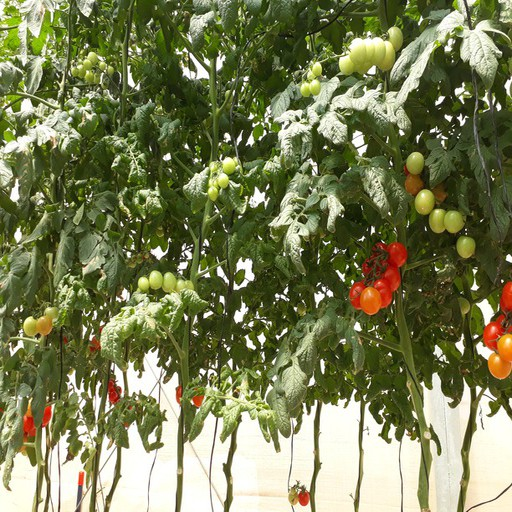green tomato bunch: (405, 152, 474, 258), (339, 28, 406, 74), (71, 50, 118, 82), (207, 158, 240, 202), (138, 270, 197, 293), (24, 307, 57, 336)
red tomato bunch: (350, 242, 407, 314), (483, 283, 512, 380), (104, 380, 138, 426), (16, 403, 52, 436), (174, 383, 207, 406), (89, 324, 111, 353)
